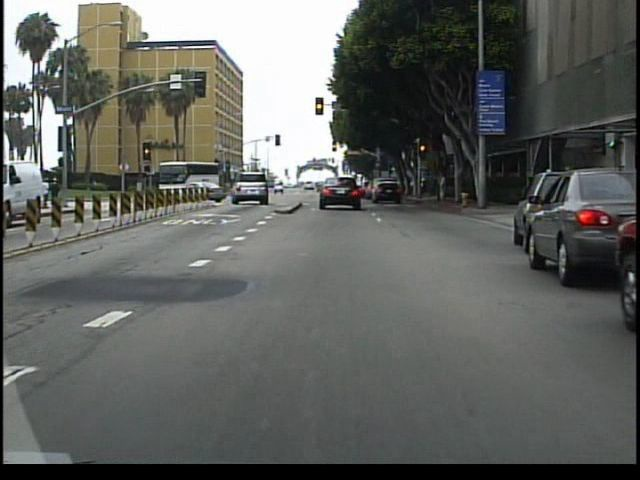person: (22, 172, 36, 206), (42, 176, 55, 212), (53, 174, 63, 208)
